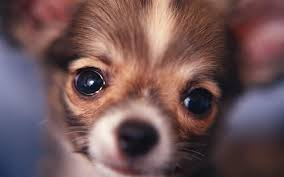chihuahua: (20, 2, 253, 177)
